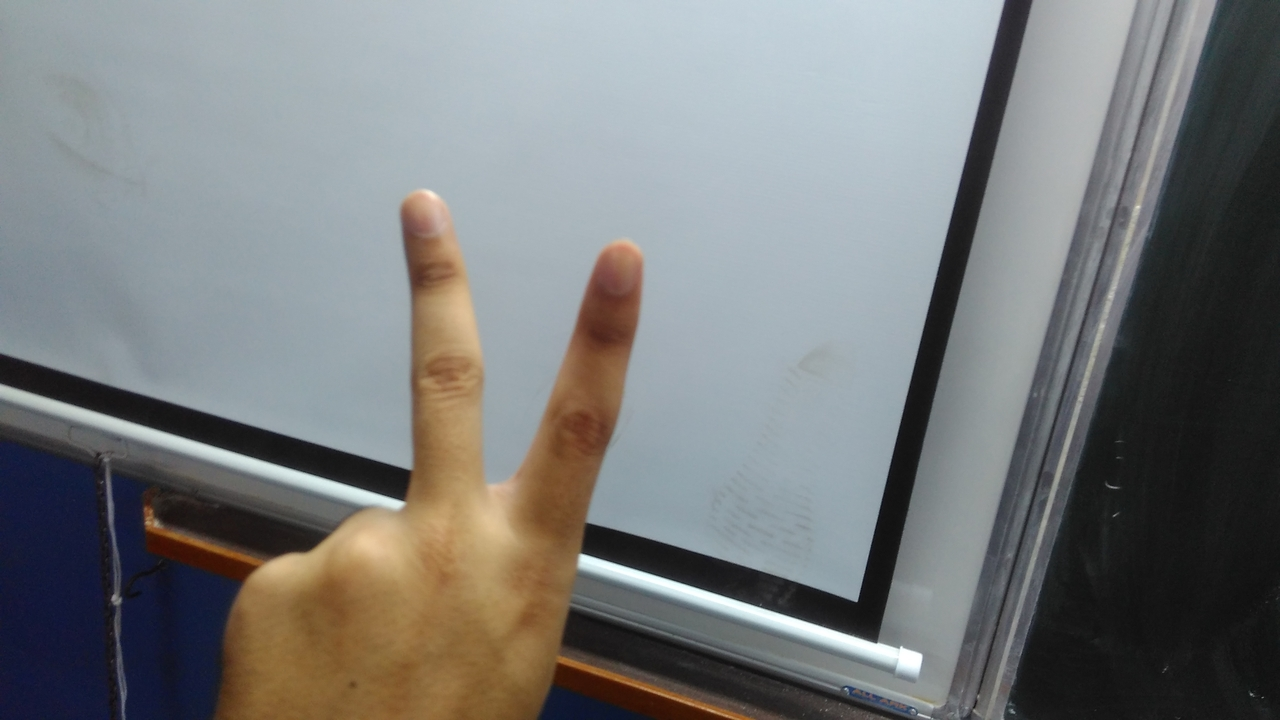fingertip: (582, 230, 650, 302), (396, 180, 458, 244)
